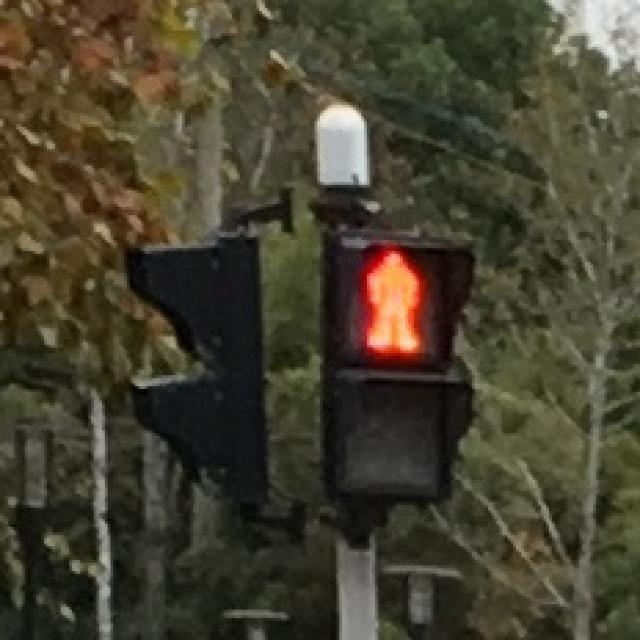red-crossing: (350, 238, 436, 356)
